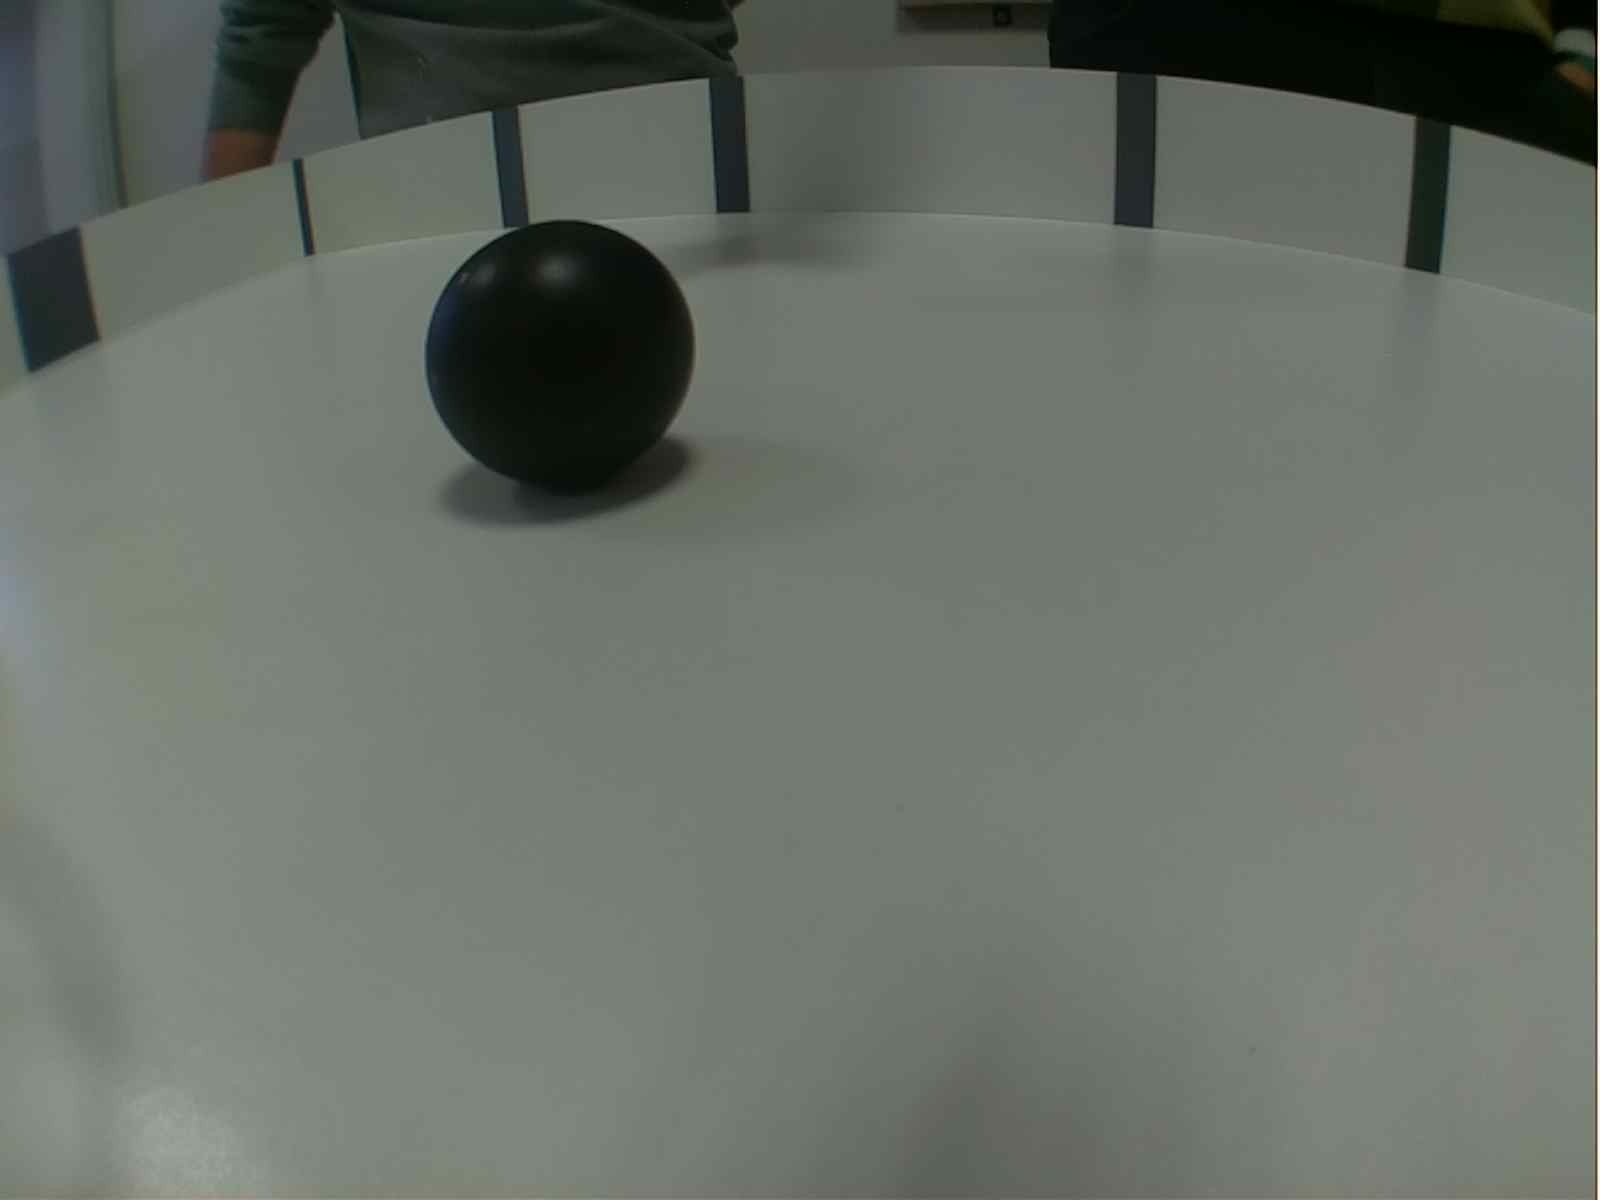nera: (423, 216, 704, 490)
